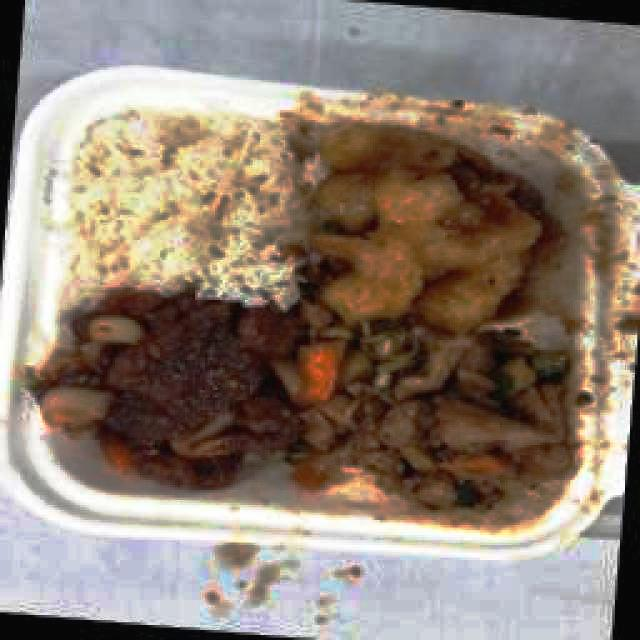Beijing Beef: (42, 300, 297, 502)
Kung Pao Chicken: (307, 318, 573, 513)
rice: (78, 131, 282, 283)
